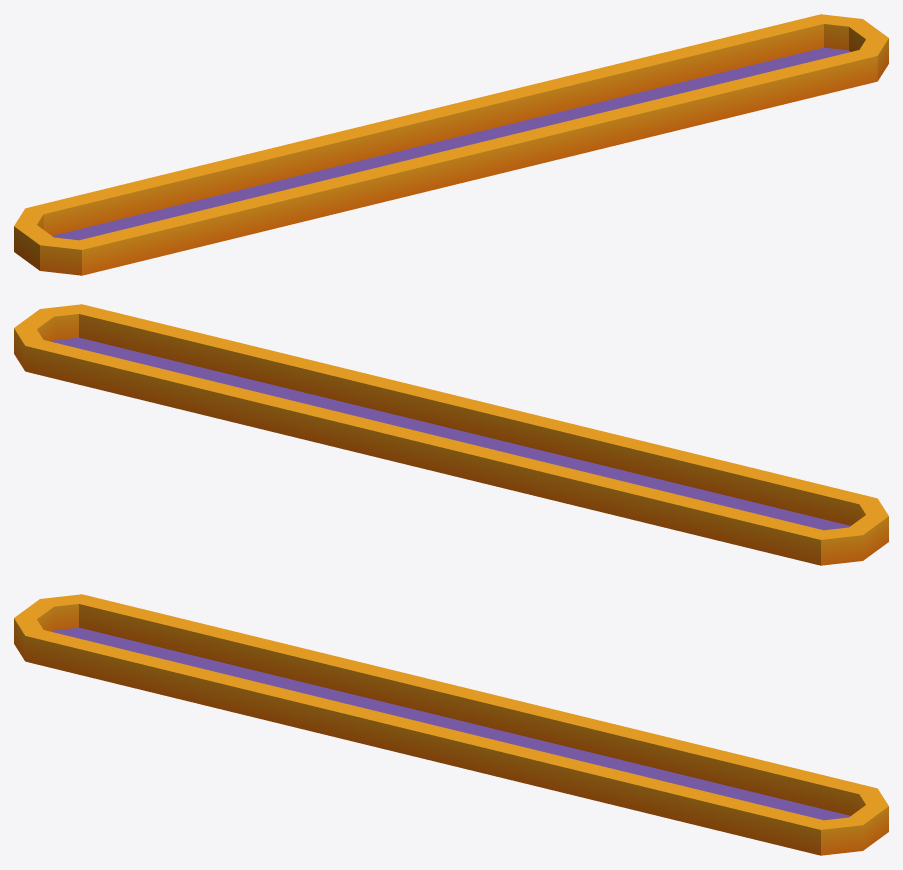
File: Gound_Socket_02_v02.fbx
The picture shows the model from 3 angles, top to bottom: view 1: azimuth 30°, elevation 25°; view 2: azimuth 150°, elevation 25°; view 3: azimuth 330°, elevation 25°; orthographic projection.
Visible parts, largest first — view 1: Obstacle_Gound_Socket_02_v02; view 2: Obstacle_Gound_Socket_02_v02; view 3: Obstacle_Gound_Socket_02_v02.
Part boxes in pixels (box(x1,y1,x2,y2)): Obstacle_Gound_Socket_02_v02: box(14, 14, 888, 275); Obstacle_Gound_Socket_02_v02: box(14, 304, 888, 565); Obstacle_Gound_Socket_02_v02: box(14, 594, 888, 855).
Bounding box in the file's own units: 173 × 5 × 20.
Materials: 1 (1 with a texture image).
